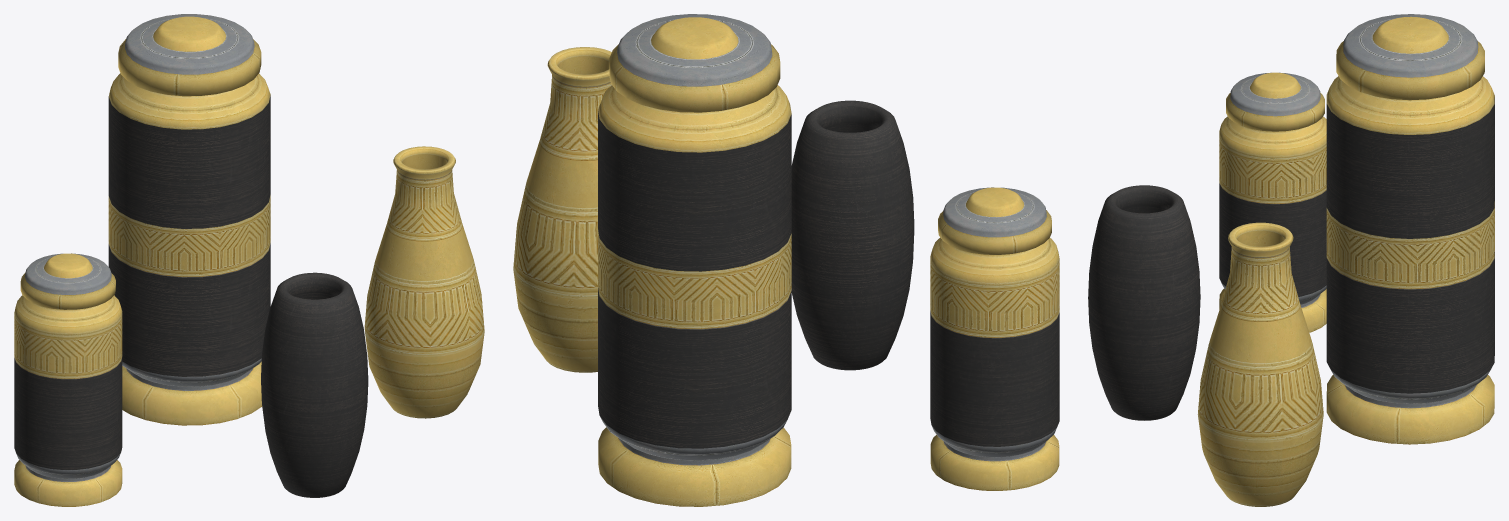
File: GoldenAndObsidianDecorationsFree.fbx
3 views of the same model, side by side, from view 1: azimuth 30°, elevation 25°; view 2: azimuth 150°, elevation 25°; view 3: azimuth 270°, elevation 25° (orthographic). The views are drawn at different scales.
Parts seen in each view (by area): view 1: Vessel_01, Vessel_02, Vase_02, Vase_01; view 2: Vessel_01, Vessel_02, Vase_01, Vase_02; view 3: Vessel_01, Vase_02, Vase_01, Vessel_02.
Part boxes in pixels (x1,y1,x2,y2): Vessel_01: [108, 14, 270, 425]; Vessel_02: [14, 253, 122, 506]; Vase_02: [364, 146, 484, 418]; Vase_01: [261, 272, 368, 497]; Vessel_01: [598, 14, 791, 506]; Vessel_02: [930, 187, 1059, 490]; Vase_01: [791, 100, 914, 370]; Vase_02: [513, 47, 611, 372]; Vessel_01: [1326, 14, 1494, 444]; Vase_02: [1197, 222, 1323, 506]; Vase_01: [1088, 185, 1200, 420]; Vessel_02: [1219, 72, 1326, 332].
Bounding box in the file's own units: 143 × 111 × 108.
